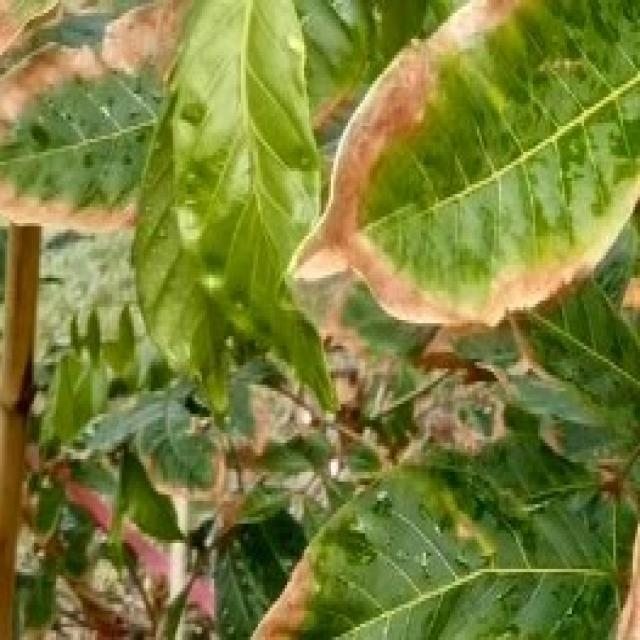Leaf Blight: (274, 21, 544, 386), (131, 439, 550, 567), (1, 2, 152, 265)
